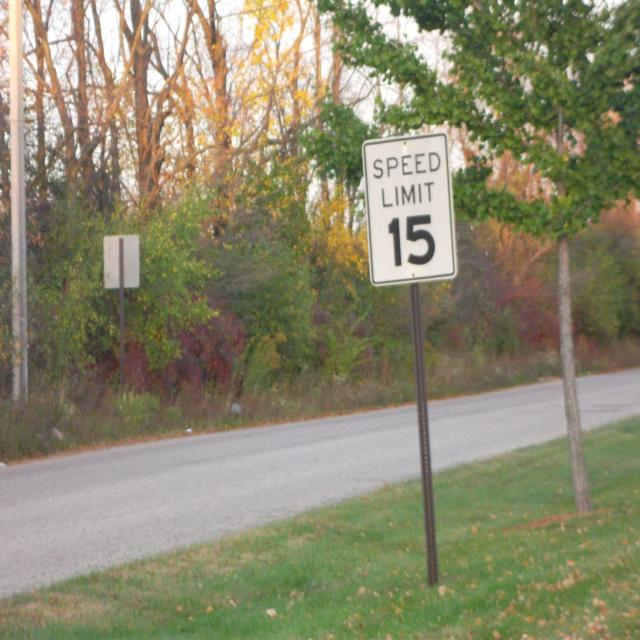regulatory: (362, 132, 458, 287)
